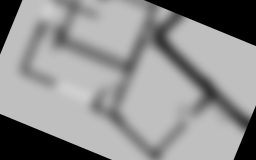door: (175, 103, 197, 128), (103, 80, 123, 99), (38, 23, 56, 41), (52, 0, 72, 1)
double door: (203, 93, 237, 123)
wall: (137, 30, 227, 98), (199, 86, 256, 140), (100, 116, 167, 160), (56, 38, 131, 75), (124, 4, 159, 75), (61, 35, 130, 67), (151, 115, 188, 160), (19, 18, 47, 71), (149, 8, 183, 49), (109, 70, 132, 118), (48, 0, 100, 19), (19, 66, 58, 88), (188, 90, 215, 121), (56, 6, 77, 44), (106, 0, 153, 11), (50, 28, 64, 52), (89, 104, 112, 118), (93, 87, 106, 110), (71, 0, 83, 6), (103, 0, 114, 2), (94, 0, 105, 1), (98, 0, 110, 0)
